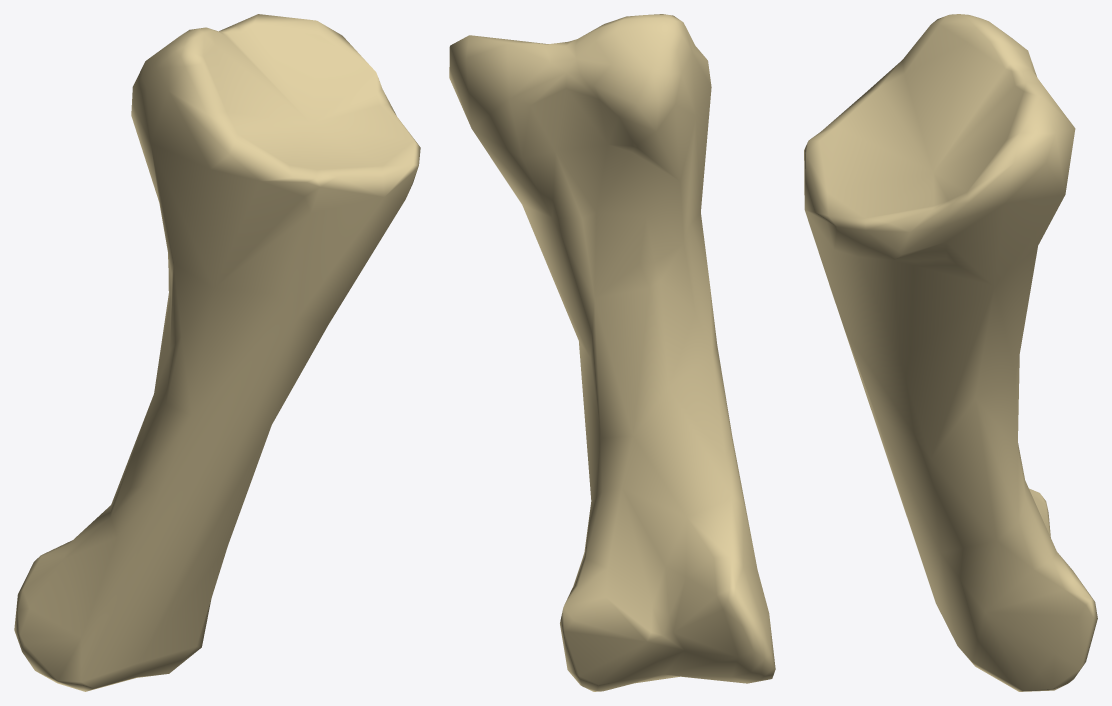
3 renders of one model, left to right at view 1: azimuth 30°, elevation 25°; view 2: azimuth 150°, elevation 25°; view 3: azimuth 270°, elevation 25°, orthographic. The views are drawn at different scales.
Visible parts, largest first — view 1: 右侧第三趾近节趾骨; view 2: 右侧第三趾近节趾骨; view 3: 右侧第三趾近节趾骨.
Boxes of the visible parts, box(x1,y1,x2,y2) form: 右侧第三趾近节趾骨: box(14, 14, 420, 691); 右侧第三趾近节趾骨: box(449, 14, 775, 691); 右侧第三趾近节趾骨: box(804, 14, 1097, 691).
Size of the model in its own units: 0.0242 by 0.0445 by 0.0176.
